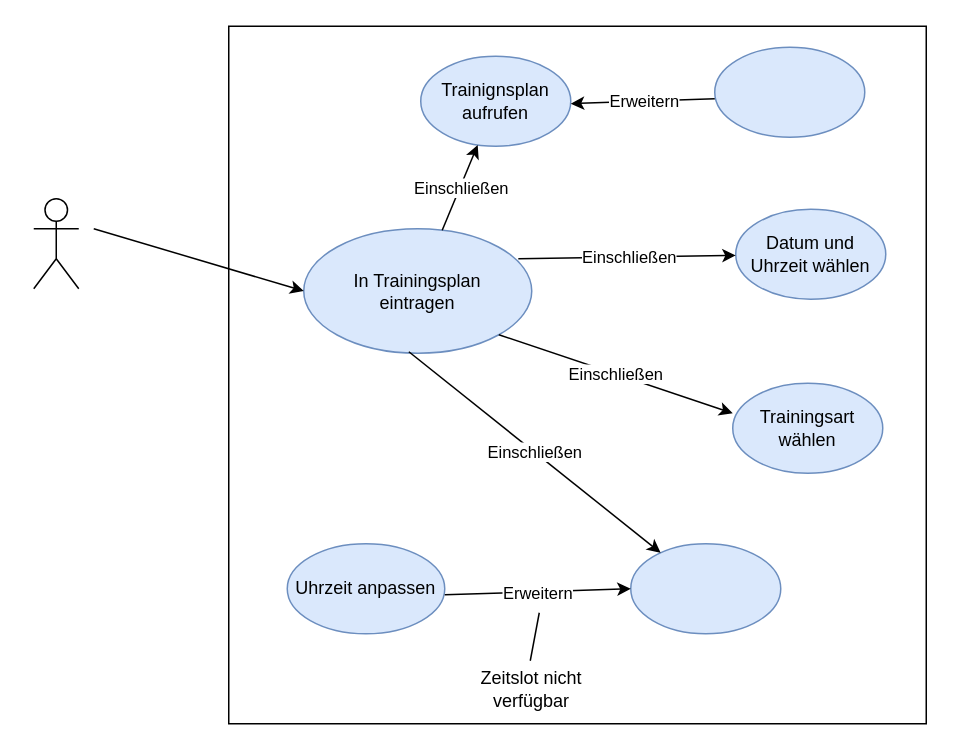
Some shapes in this 953 by 750 pixel diagram are drawn without their labels. Here are the shapes that lost their labels. From the top down, the centre of each, then its label:
At (789,91): "Einloggen".
At (55,243): "Mitglied".
At (705,588): "Eintrag durchführen".
